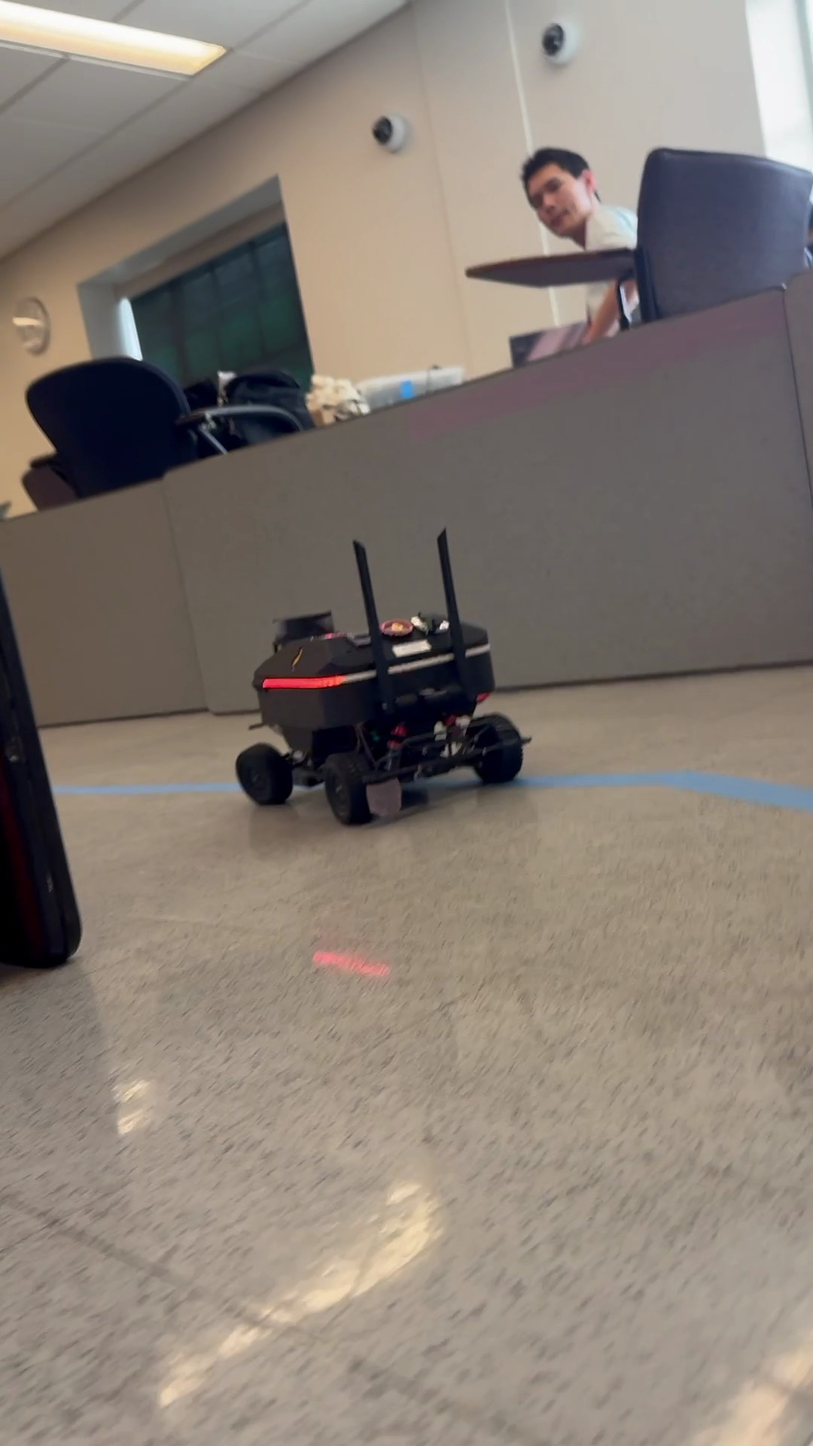racecar: (233, 529, 530, 826)
